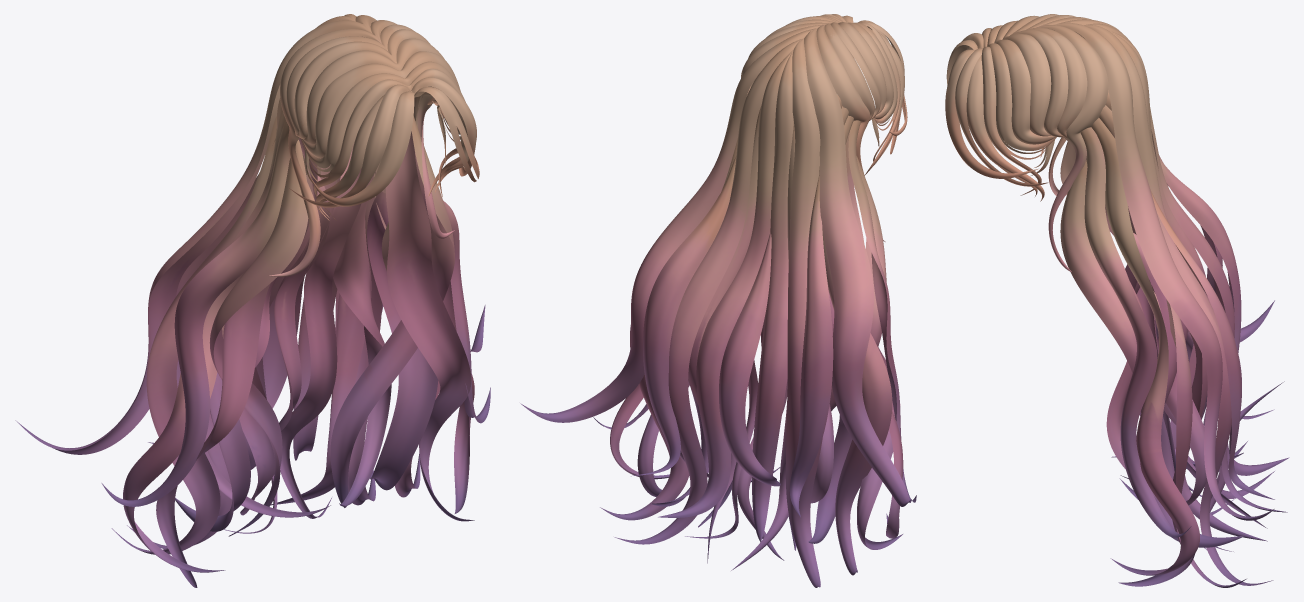
File: CH_B_Hair_temp.fbx
3 views of the same model, side by side, from view 1: azimuth 30°, elevation 25°; view 2: azimuth 150°, elevation 25°; view 3: azimuth 270°, elevation 25° (orthographic). The views are drawn at different scales.
Visible parts, largest first — view 1: Hair_B_back, Hair_B_Mid, Har_B_Front; view 2: Hair_B_back, Hair_B_Mid, Har_B_Front; view 3: Hair_B_back, Hair_B_Mid, Har_B_Front.
Boxes of the visible parts, <box> form: Hair_B_back: <box>15,14,490,587</box>; Hair_B_Mid: <box>286,24,460,183</box>; Har_B_Front: <box>289,68,479,220</box>; Hair_B_back: <box>520,24,916,587</box>; Hair_B_Mid: <box>748,15,897,146</box>; Har_B_Front: <box>821,14,907,175</box>; Hair_B_back: <box>1037,17,1289,587</box>; Hair_B_Mid: <box>987,14,1087,175</box>; Har_B_Front: <box>945,28,1048,201</box>.
Size of the model in its own units: 54.39 by 62.87 by 37.91.
1 material, 1 textured.
